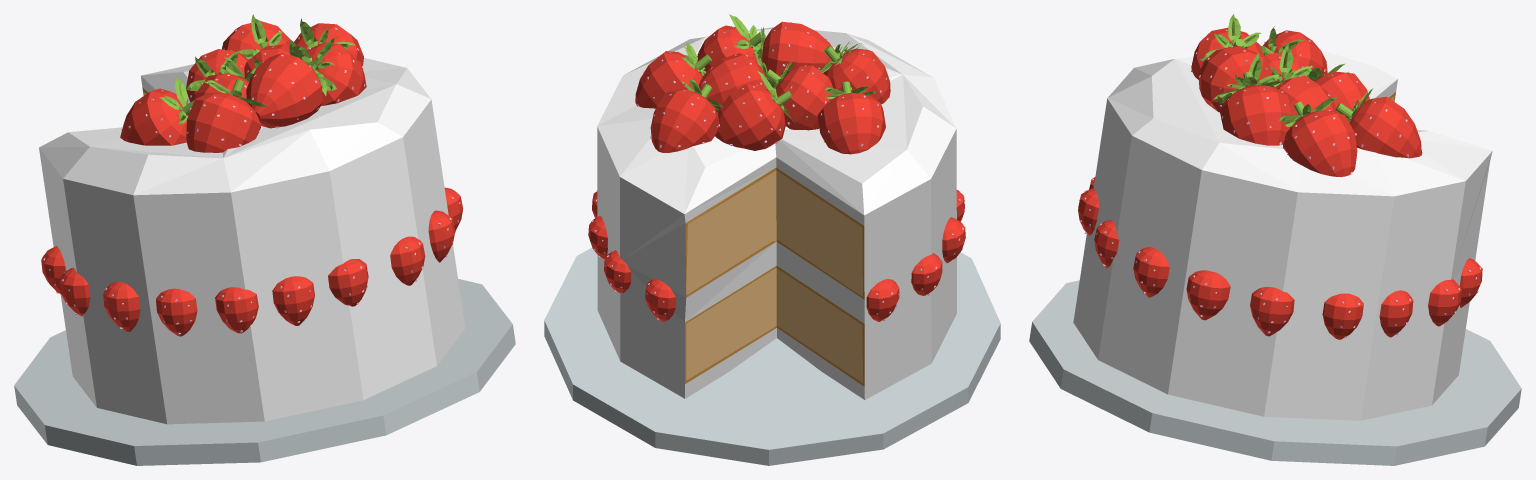
The model's file is hat_cake.glb.
3 views of the same model, side by side, from view 1: azimuth 30°, elevation 25°; view 2: azimuth 150°, elevation 25°; view 3: azimuth 270°, elevation 25° (orthographic). The views are drawn at different scales.
Parts seen in each view (by area): view 1: Hatmodel; view 2: Hatmodel; view 3: Hatmodel.
Part boxes in pixels (left/top/right/bottom): Hatmodel: left=14, top=14, right=515, bottom=465; Hatmodel: left=544, top=14, right=1000, bottom=465; Hatmodel: left=1029, top=14, right=1521, bottom=465.
Bounding box in the file's own units: 4.18 × 3.41 × 4.16.
